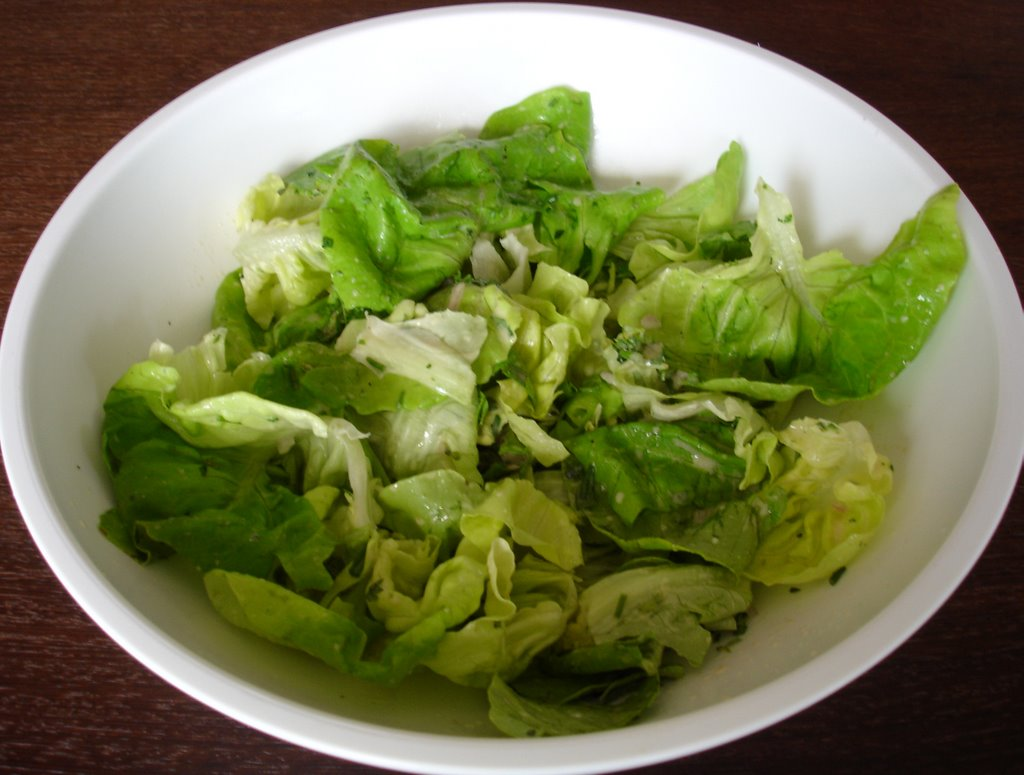chopped lettuce: (209, 176, 837, 623)
